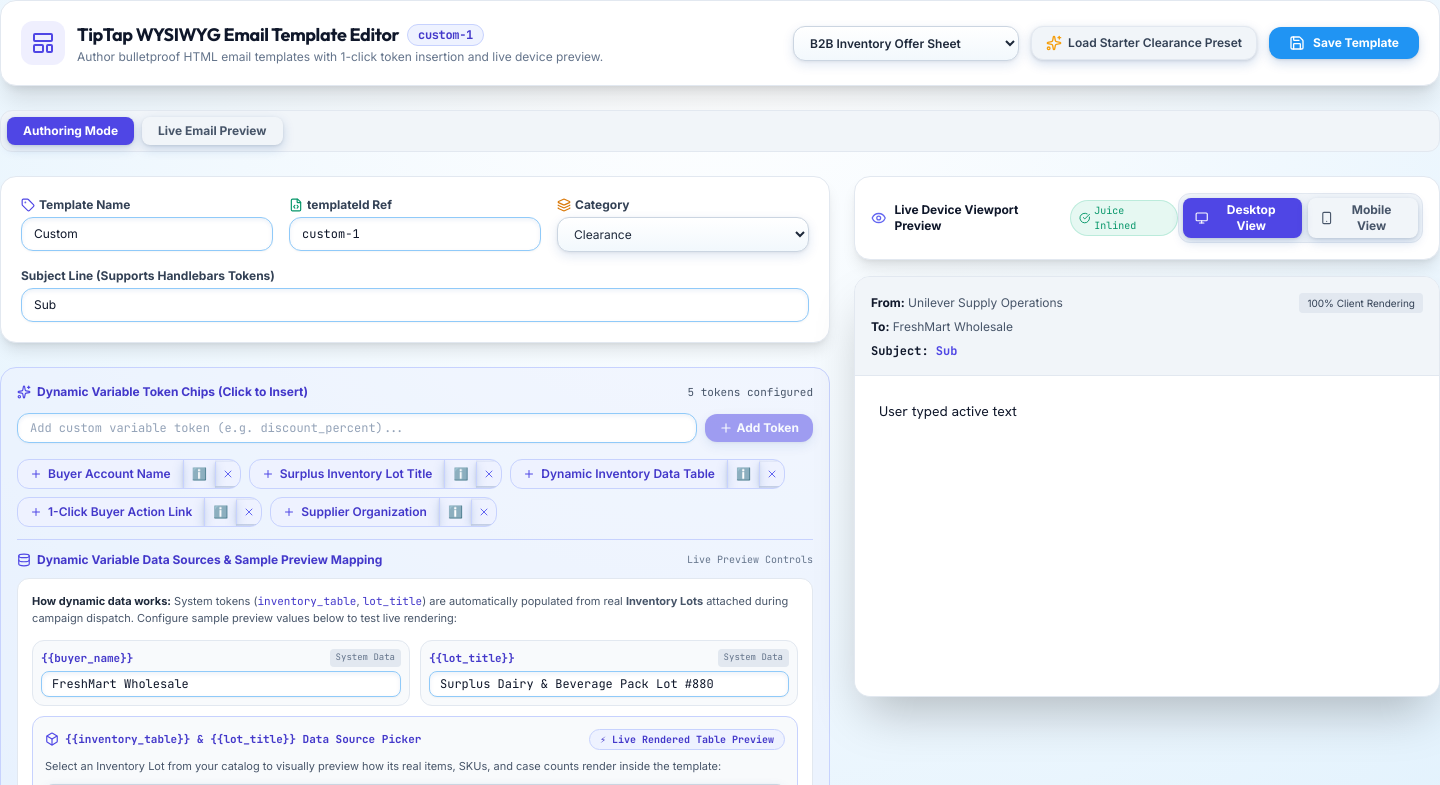
Test: Template Picker Dropdown & Overwrite Confirmation Modal › prompts overwrite confirmation modal when selecting template on non-empty editor
Step 1. Select "Short-Dated Flash Sale" in the dropdown with test id "template-picker-select" → (906, 43), box left=793, top=26, right=1019, bottom=60
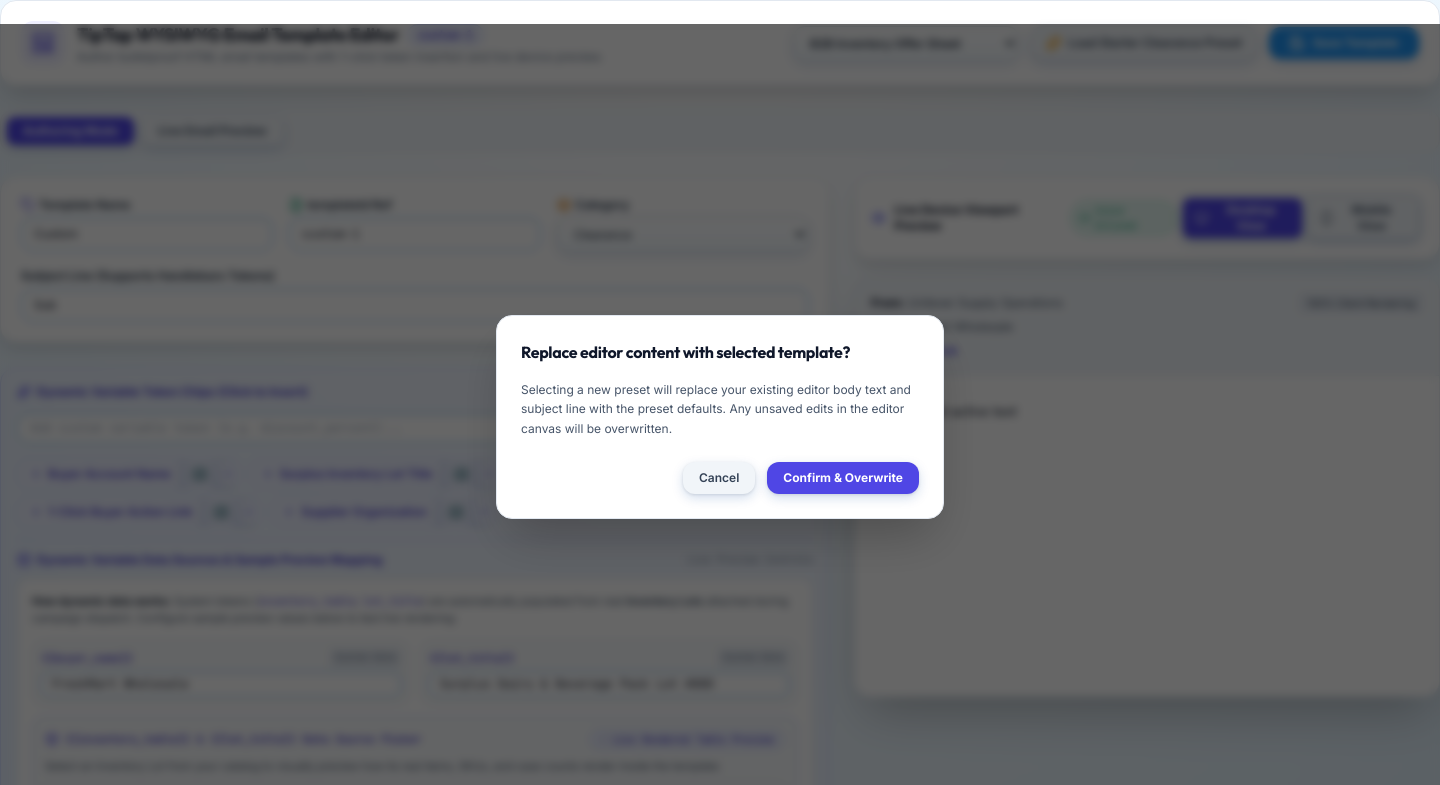
Expected: the heading "Replace editor content with selected template?" is shown, left=521, top=342, right=850, bottom=362
